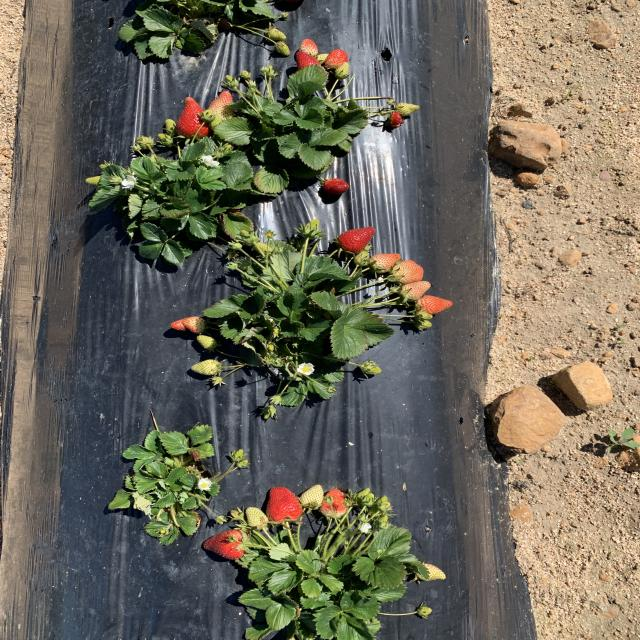unripe: (198, 527, 255, 562), (171, 97, 212, 139), (267, 487, 303, 522), (337, 226, 377, 252), (292, 50, 322, 84)
